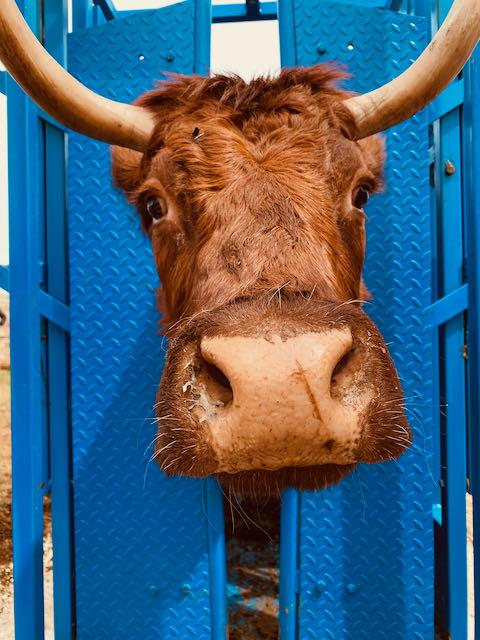muzzles: (150, 323, 411, 493)
